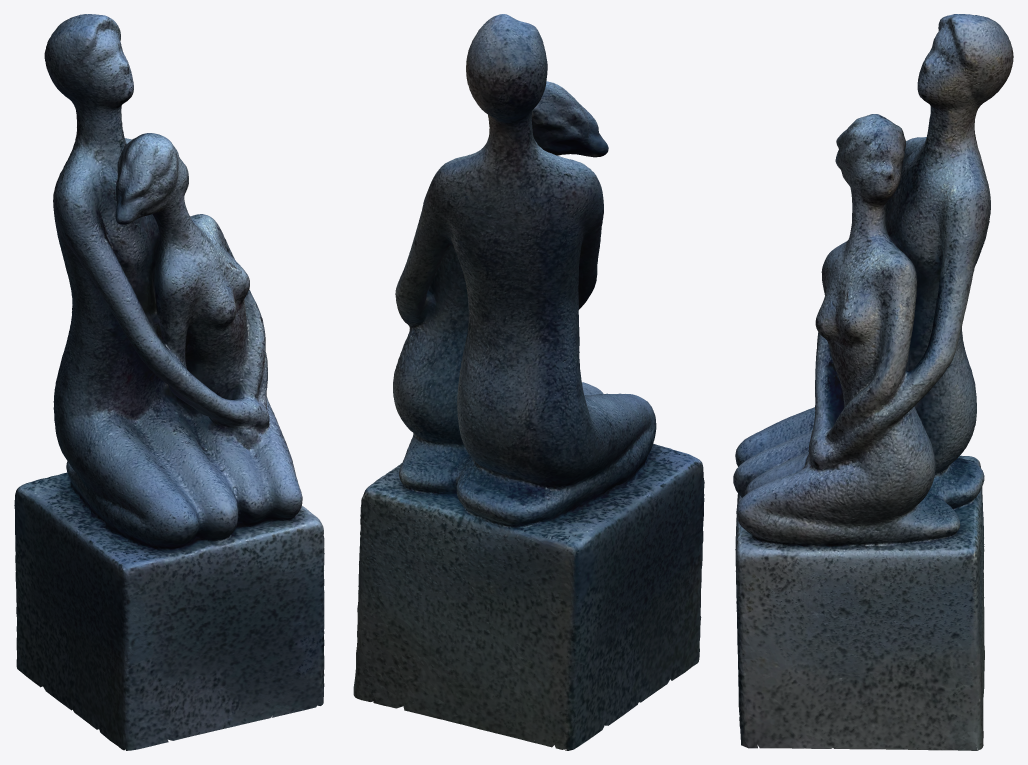
The model's file is preview.glb.
3 renders of one model, left to right at view 1: azimuth 30°, elevation 25°; view 2: azimuth 150°, elevation 25°; view 3: azimuth 270°, elevation 25°, orthographic. The views are drawn at different scales.
Bounding box in the file's own units: 0.5435 × 1.59 × 0.6049.
Materials: 1 (1 with a texture image).
